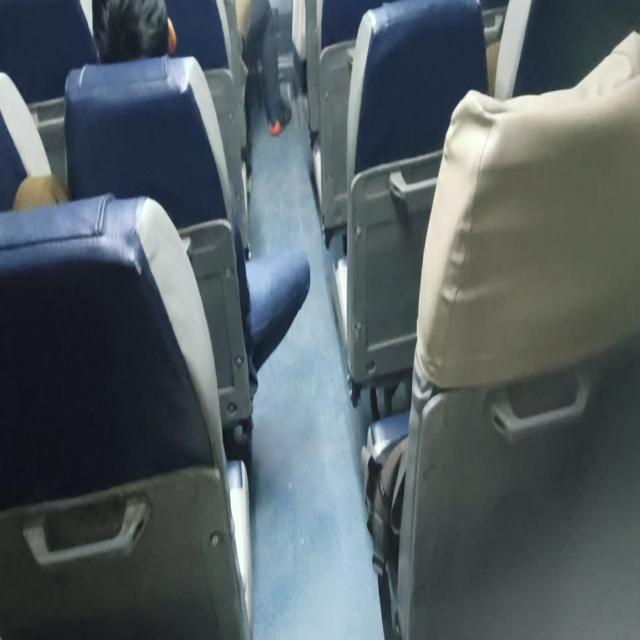person: (91, 0, 311, 400), (235, 0, 292, 136), (92, 0, 177, 64)
